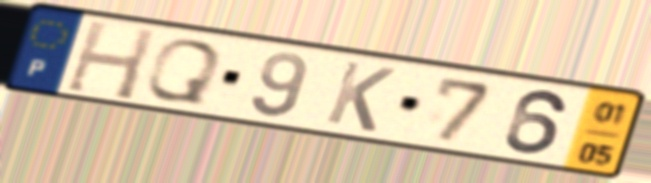6: (502, 87, 570, 158)
7: (432, 75, 497, 144)
9: (248, 49, 311, 120)
H: (60, 17, 161, 103)
K: (321, 58, 400, 135)
Q: (139, 37, 226, 108)
